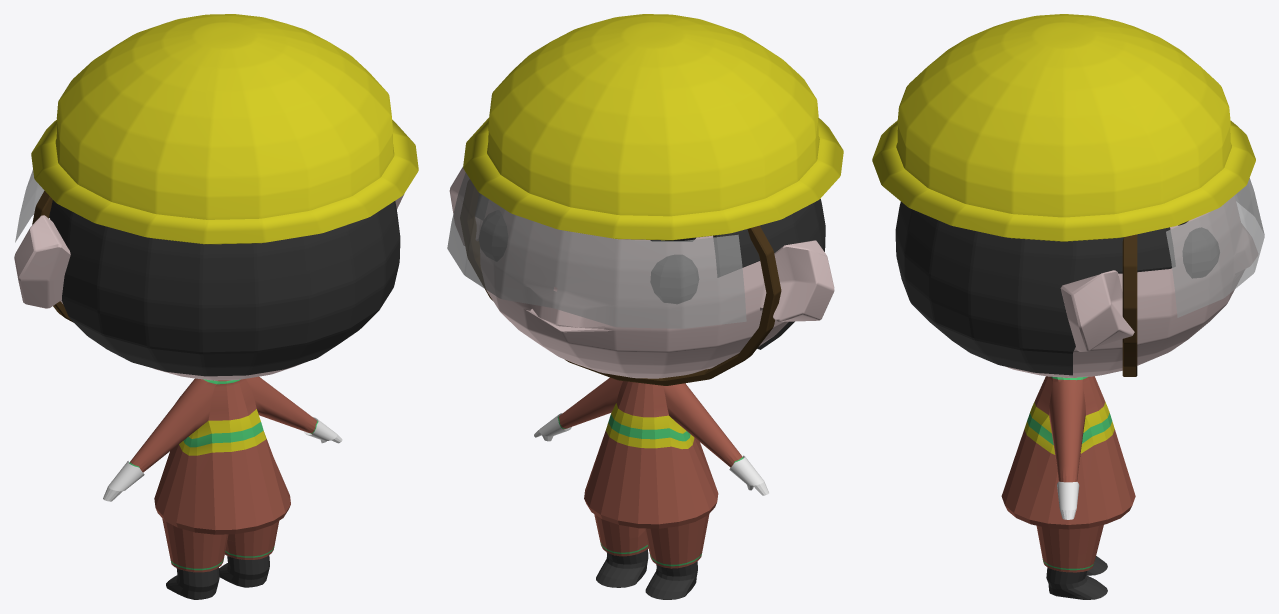
Rendered from xiaofangyuan.fbx.
3 views of the same model, side by side, from view 1: azimuth 30°, elevation 25°; view 2: azimuth 150°, elevation 25°; view 3: azimuth 270°, elevation 25° (orthographic).
Visible parts, largest first — view 1: polySurface22, polySurface14, polySurface25, polySurface20, polySurface27, polySurface28, polySurface26, pPipe1; view 2: polySurface22, polySurface27, polySurface28, polySurface25, polySurface20, pPipe1, polySurface14, polySurface6, polySurface7, polySurface26; view 3: polySurface22, polySurface14, polySurface27, polySurface25, polySurface28, polySurface20, pPipe1, polySurface7, polySurface24.
Part boxes in pixels (x1,y1,x2,y2): polySurface22: (31, 14, 418, 244); polySurface14: (49, 200, 400, 376); polySurface25: (129, 376, 318, 534); polySurface20: (162, 518, 279, 599); polySurface27: (14, 194, 404, 380); polySurface28: (15, 170, 44, 242); polySurface26: (103, 461, 144, 501); pPipe1: (32, 190, 73, 322); polySurface22: (463, 14, 843, 240); polySurface27: (449, 167, 834, 378); polySurface28: (447, 172, 746, 328); polySurface25: (557, 377, 743, 528); polySurface20: (594, 514, 709, 599); pPipe1: (460, 179, 781, 385); polySurface14: (475, 193, 825, 349); polySurface6: (650, 255, 698, 303); polySurface7: (479, 210, 507, 261); polySurface26: (729, 455, 768, 495); polySurface22: (872, 14, 1255, 241); polySurface14: (895, 201, 1175, 375); polySurface27: (1006, 196, 1257, 377); polySurface25: (1001, 376, 1135, 529); polySurface28: (1166, 178, 1264, 317); polySurface20: (1036, 525, 1107, 599); pPipe1: (1122, 234, 1137, 376); polySurface7: (1182, 227, 1219, 278); polySurface24: (1057, 481, 1079, 519).
Bounding box in the file's own units: 15.56 × 21.29 × 13.9.
